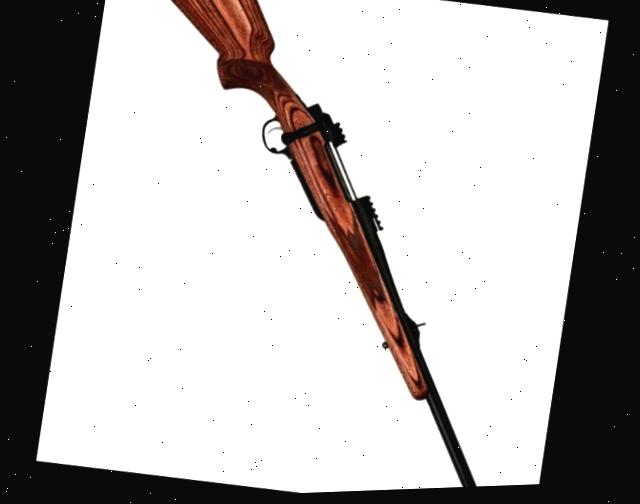rifle: (31, 0, 608, 503)
